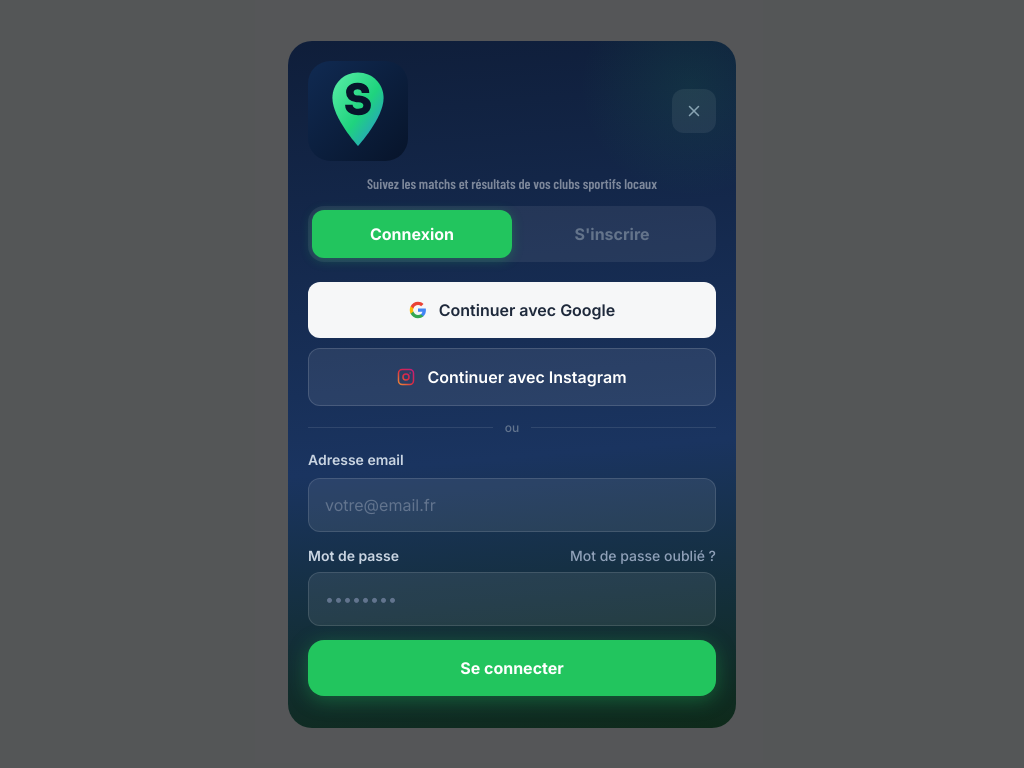
Test case: AuthPage — mode register › affiche le champ nom en mode register
Click the button "S'inscrire" at [612, 234], box [512,210,712,258]
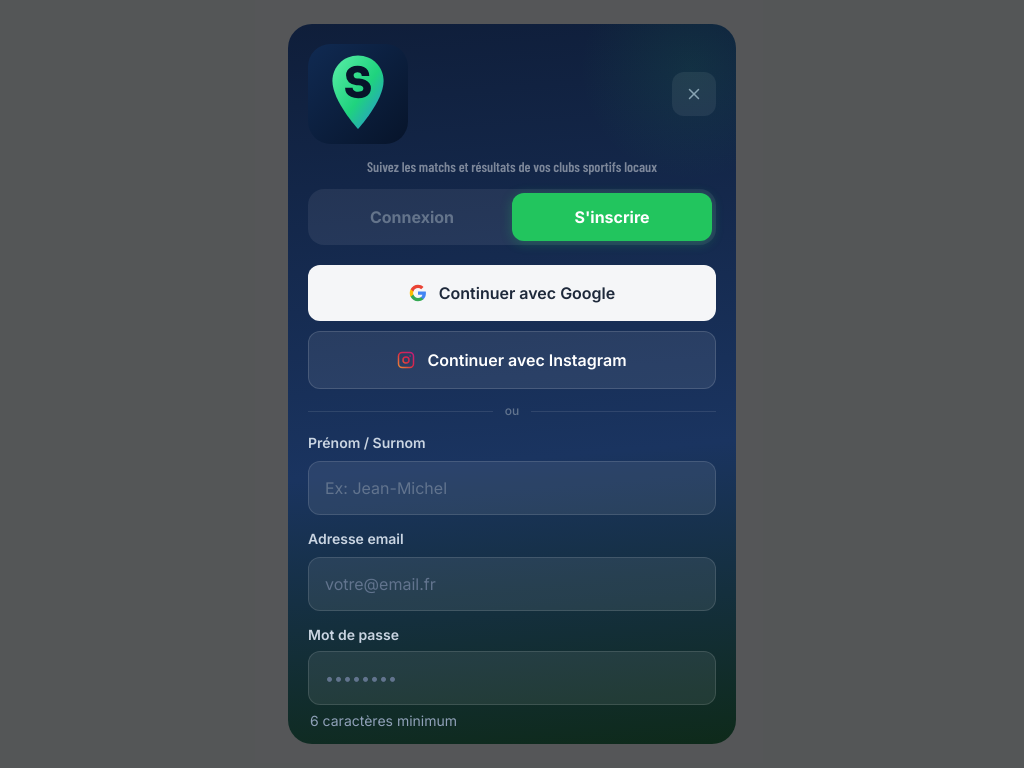
Expected: the field with placeholder "Ex: Jean-Michel" is shown, [308,461,716,515]
